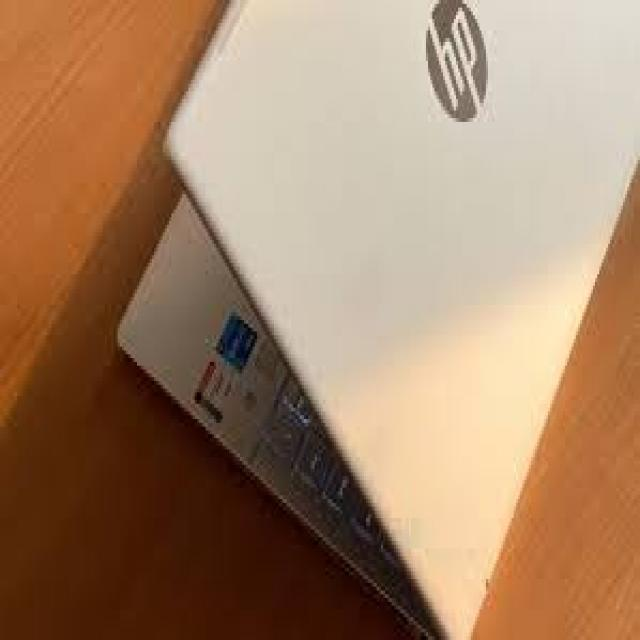others: (98, 4, 640, 636)
